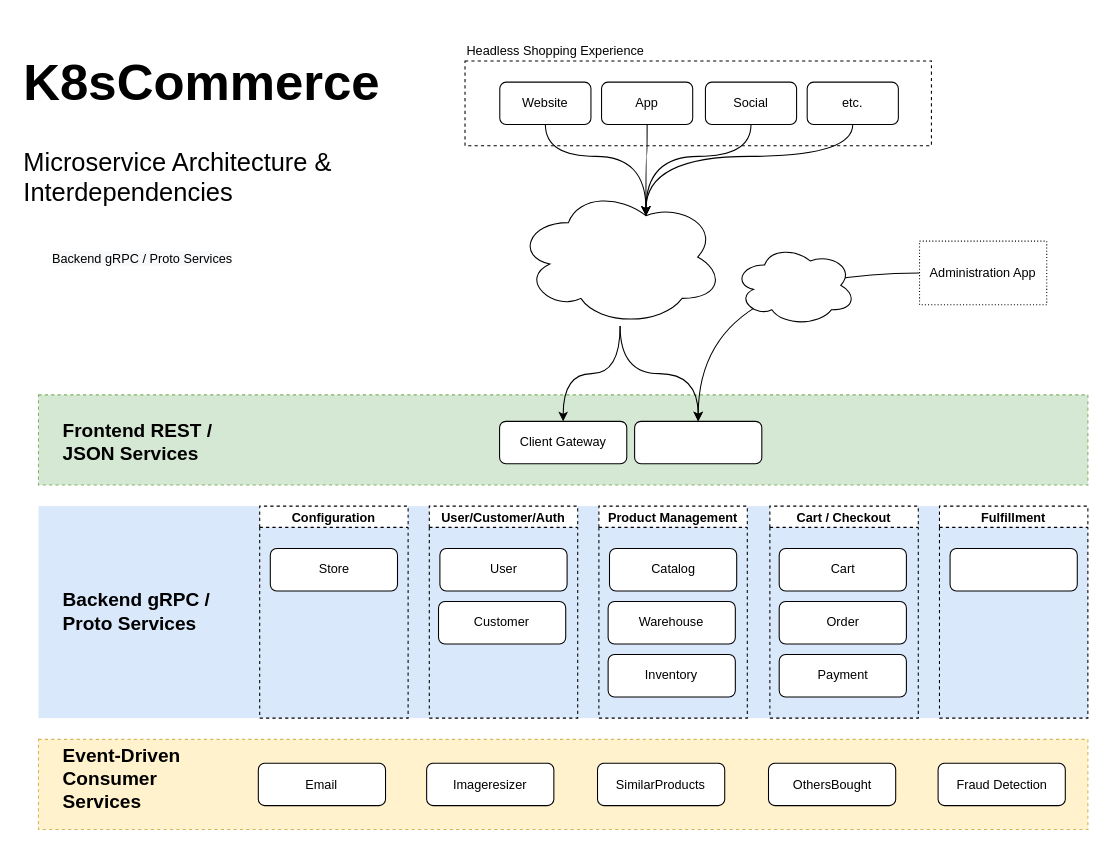
The diagram is 1107 pixels wide and 848 high, and some of its shapes have lost their labels. Each missing label, with the centre of its shape:
Admin Gateway: the point at 698,442
Internet: the point at 619,256
Shipping: the point at 1013,569
VPN / Intranet: the point at 794,285
